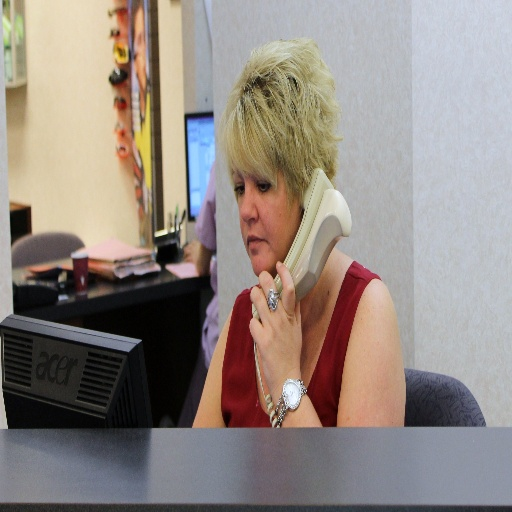hand: (252, 243, 307, 417), (185, 239, 197, 263)
